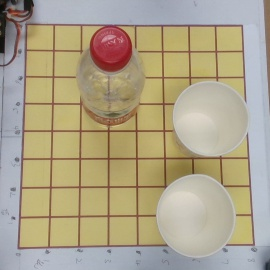bottle: (69, 24, 146, 139)
cup: (152, 172, 235, 259), (167, 80, 249, 167)
